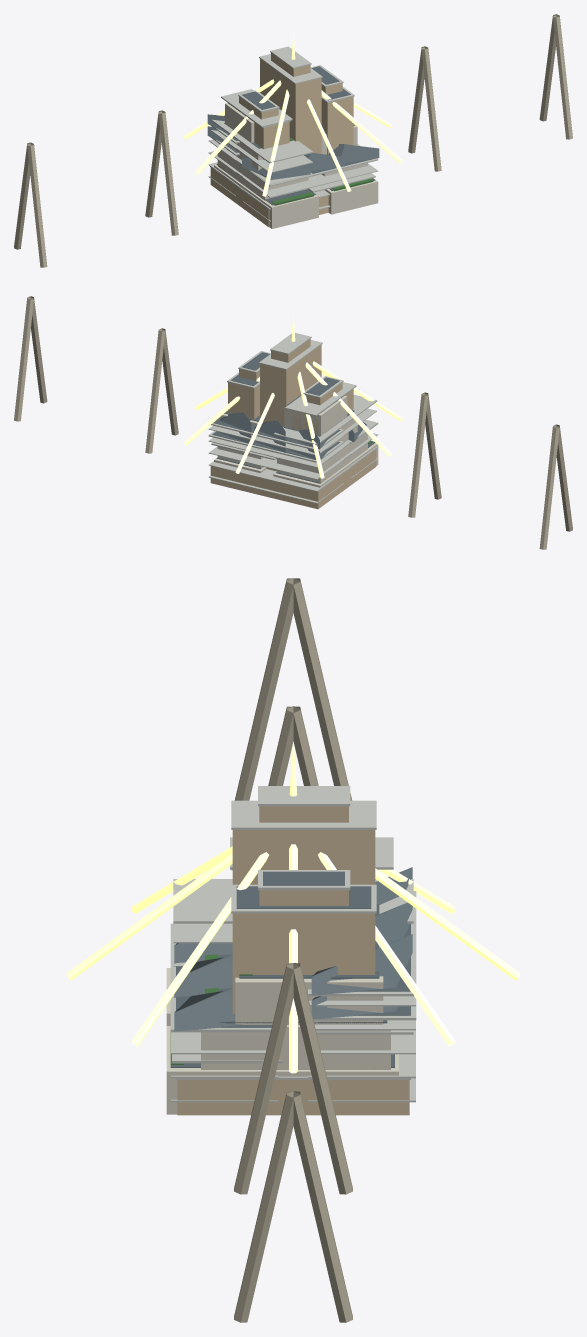
Rendered from Catalog-55.glb.
The picture shows the model from 3 angles, top to bottom: view 1: azimuth 30°, elevation 25°; view 2: azimuth 150°, elevation 25°; view 3: azimuth 270°, elevation 25°; orthographic projection. The views are drawn at different scales.
Visible parts, largest first — view 1: Metropolis Sandstone, Metropolis Pale Stone (×3), Metropolis Stone, Metropolis Ivory, Metropolis Graphite (×3), Metropolis Gold, Metropolis Green; view 2: Metropolis Pale Stone (×4), Metropolis Sandstone, Metropolis Stone, Metropolis Ivory, Metropolis Graphite (×4), Metropolis Gold; view 3: Metropolis Sandstone, Metropolis Stone, Metropolis Pale Stone (×3), Metropolis Graphite (×4), Metropolis Ivory, Metropolis Gold.
Boxes of the visible parts, x1=… form: Metropolis Sandstone: x1=210, y1=53, x2=353, y2=226; Metropolis Pale Stone (×3): x1=208, y1=46, x2=378, y2=221; Metropolis Stone: x1=14, y1=14, x2=572, y2=267; Metropolis Ivory: x1=214, y1=103, x2=378, y2=228; Metropolis Graphite (×3): x1=207, y1=66, x2=379, y2=205; Metropolis Gold: x1=183, y1=33, x2=402, y2=196; Metropolis Green: x1=258, y1=131, x2=373, y2=205; Metropolis Pale Stone (×4): x1=208, y1=333, x2=378, y2=503; Metropolis Sandstone: x1=210, y1=339, x2=376, y2=509; Metropolis Stone: x1=14, y1=296, x2=572, y2=549; Metropolis Ivory: x1=214, y1=395, x2=378, y2=487; Metropolis Graphite (×4): x1=212, y1=352, x2=375, y2=483; Metropolis Gold: x1=184, y1=315, x2=403, y2=478; Metropolis Sandstone: x1=177, y1=806, x2=409, y2=1115; Metropolis Stone: x1=234, y1=578, x2=352, y2=1322; Metropolis Pale Stone (×3): x1=170, y1=786, x2=416, y2=1102; Metropolis Graphite (×4): x1=170, y1=867, x2=412, y2=1067; Metropolis Ivory: x1=166, y1=946, x2=398, y2=1114; Metropolis Gold: x1=66, y1=742, x2=520, y2=1073.
Size of the model in its own units: 466 by 135 by 172.
